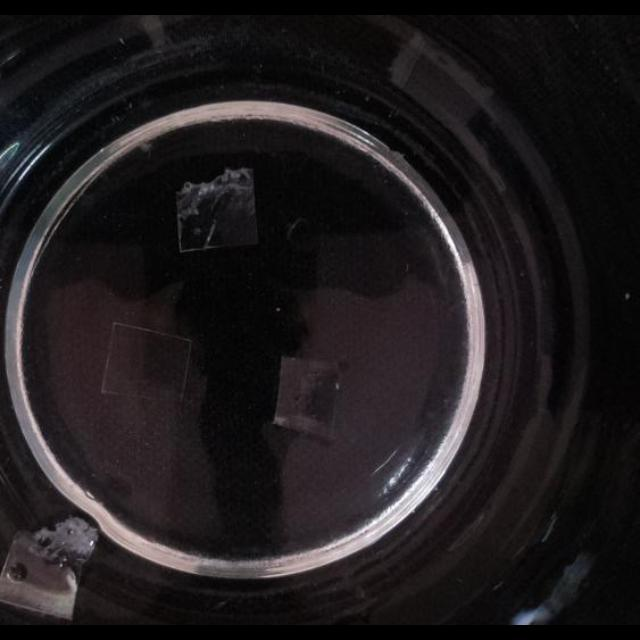Film: (2, 513, 96, 623), (100, 321, 194, 405), (176, 166, 256, 250), (273, 354, 345, 438)
